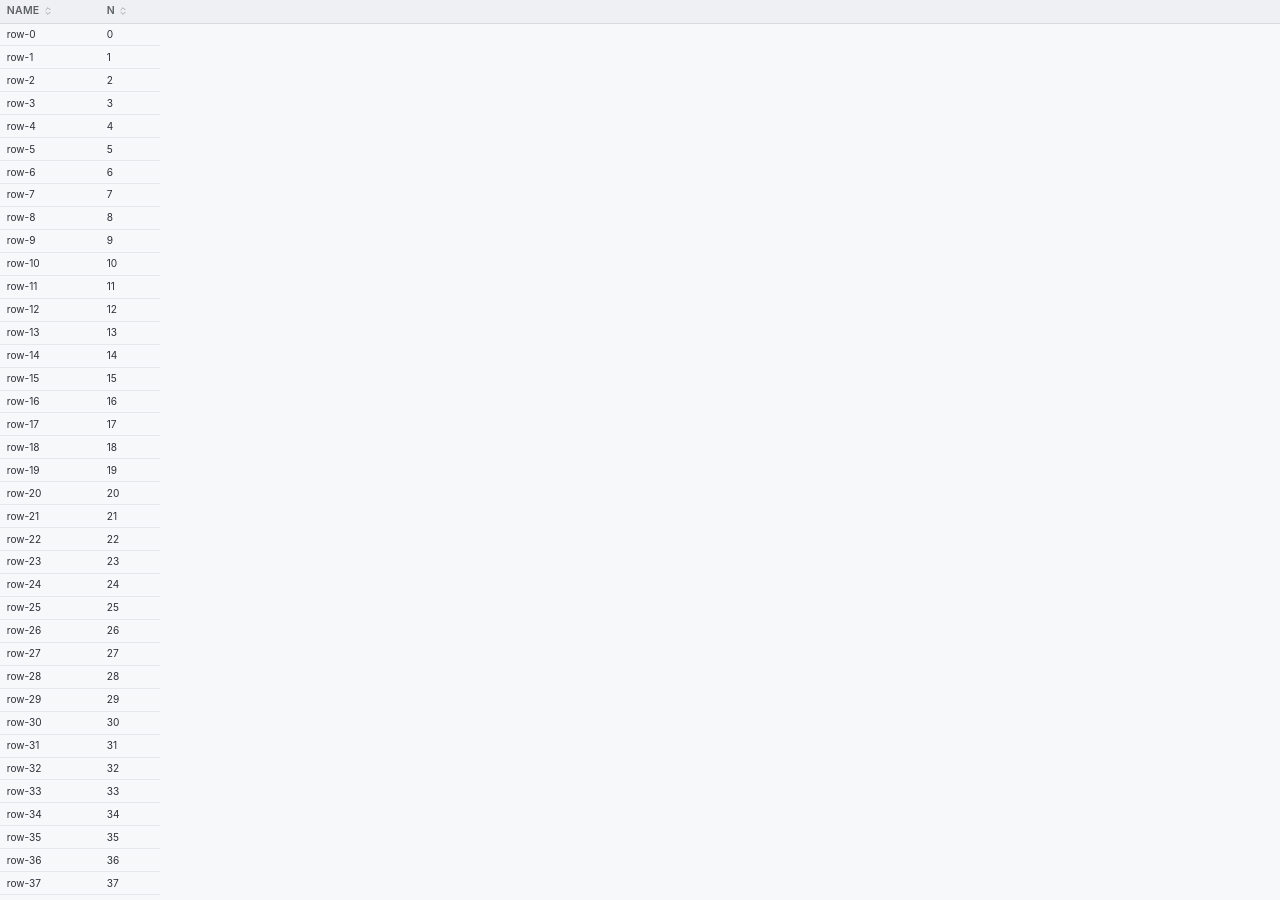
it: DataGrid — progressive row rendering (A8) › sorting resets the window to the first batch of the NEW order
// Sort by Name ascending — the effect must reset to the first 100 rows.
Click the button "Name".
click(30, 11)  # box [7, 4, 53, 17]
(page scrolled)
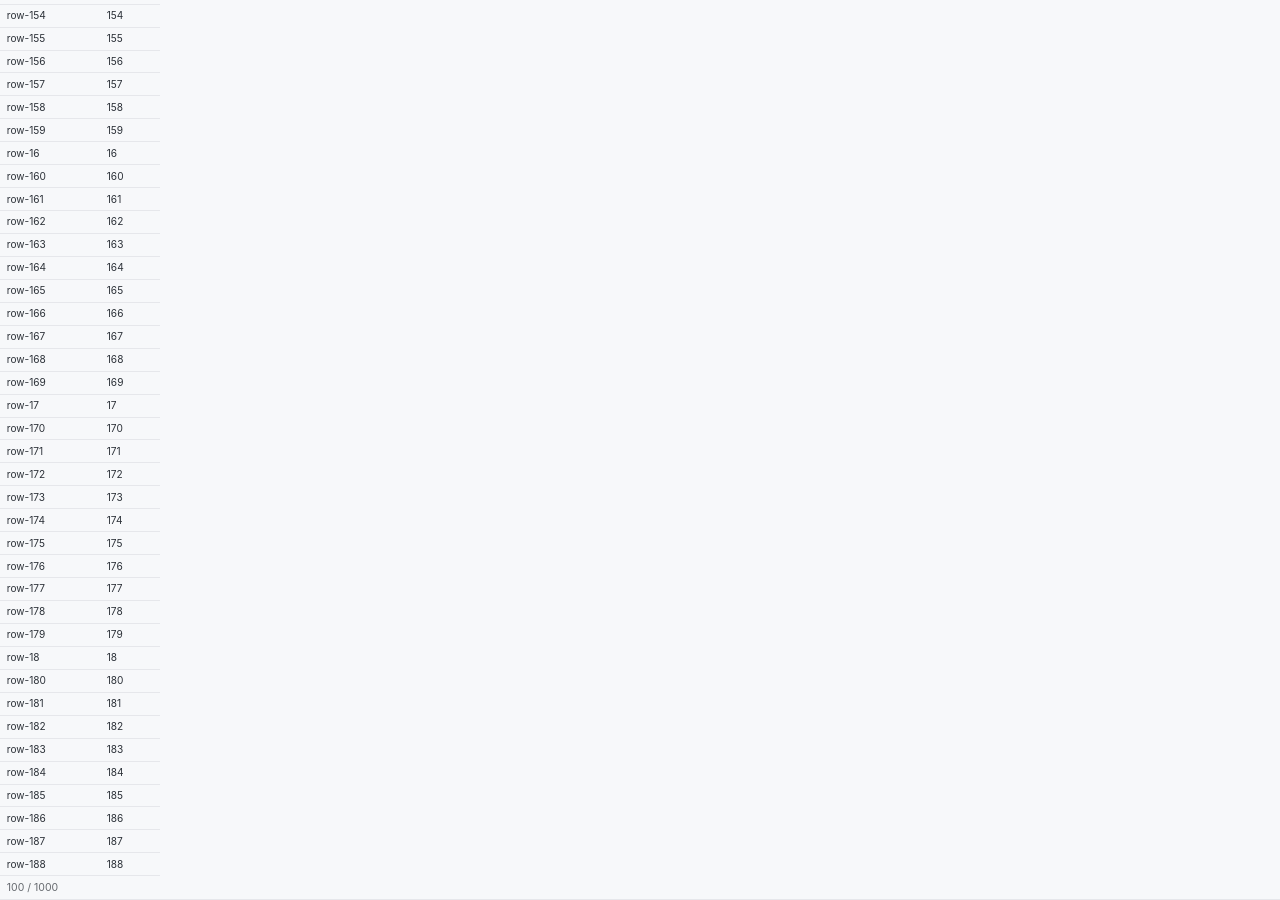
Check: the text "100 / 1000" is shown, box [0, 876, 1279, 899]
